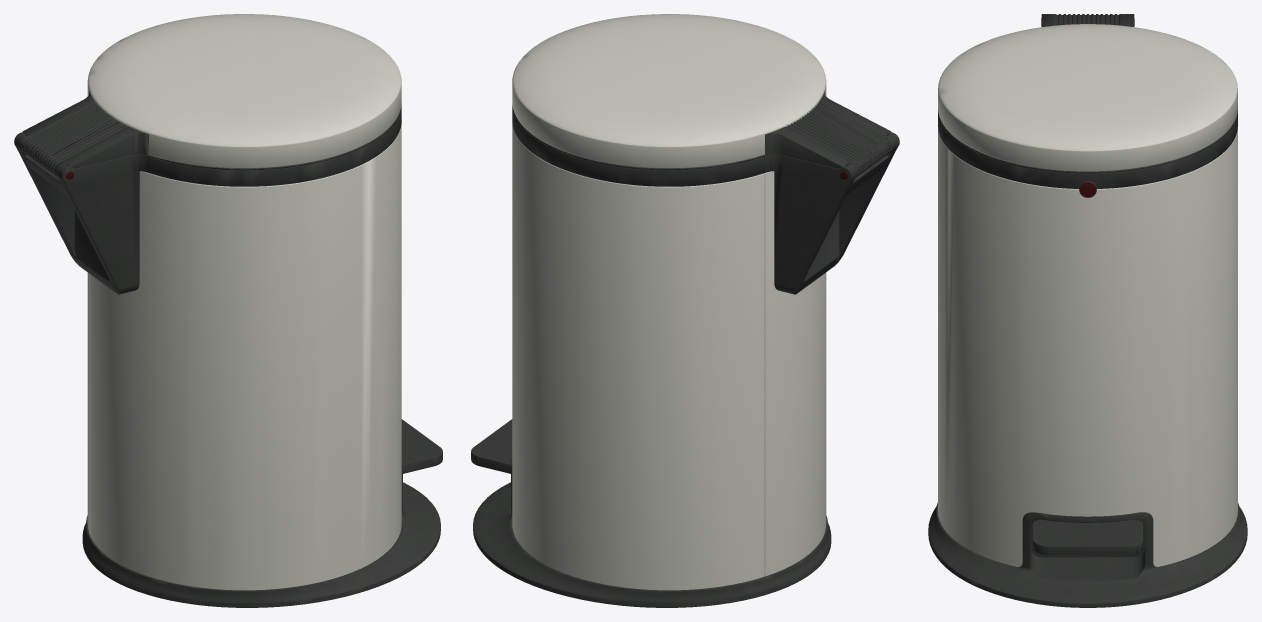
File: sr_bin_waste_a01.glb
3 views of the same model, side by side, from view 1: azimuth 30°, elevation 25°; view 2: azimuth 150°, elevation 25°; view 3: azimuth 270°, elevation 25° (orthographic). The views are drawn at different scales.
Visible parts, largest first — view 1: m_opaque__metal__painted_white_a01_2, pedal_01_mesh_00_1; view 2: m_opaque__metal__painted_white_a01_2, pedal_01_mesh_00_1; view 3: m_opaque__metal__painted_white_a01_2, pedal_01_mesh_00_1.
Part boxes in pixels (box(x1,y1,x2,y2)): m_opaque__metal__painted_white_a01_2: box(87, 14, 401, 590); pedal_01_mesh_00_1: box(14, 91, 442, 607); m_opaque__metal__painted_white_a01_2: box(512, 14, 826, 590); pedal_01_mesh_00_1: box(471, 91, 899, 607); m_opaque__metal__painted_white_a01_2: box(938, 24, 1237, 566); pedal_01_mesh_00_1: box(928, 14, 1247, 607).
Size of the model in its own units: 0.2377 by 0.28 by 0.1802.
5 materials, 2 textured.
